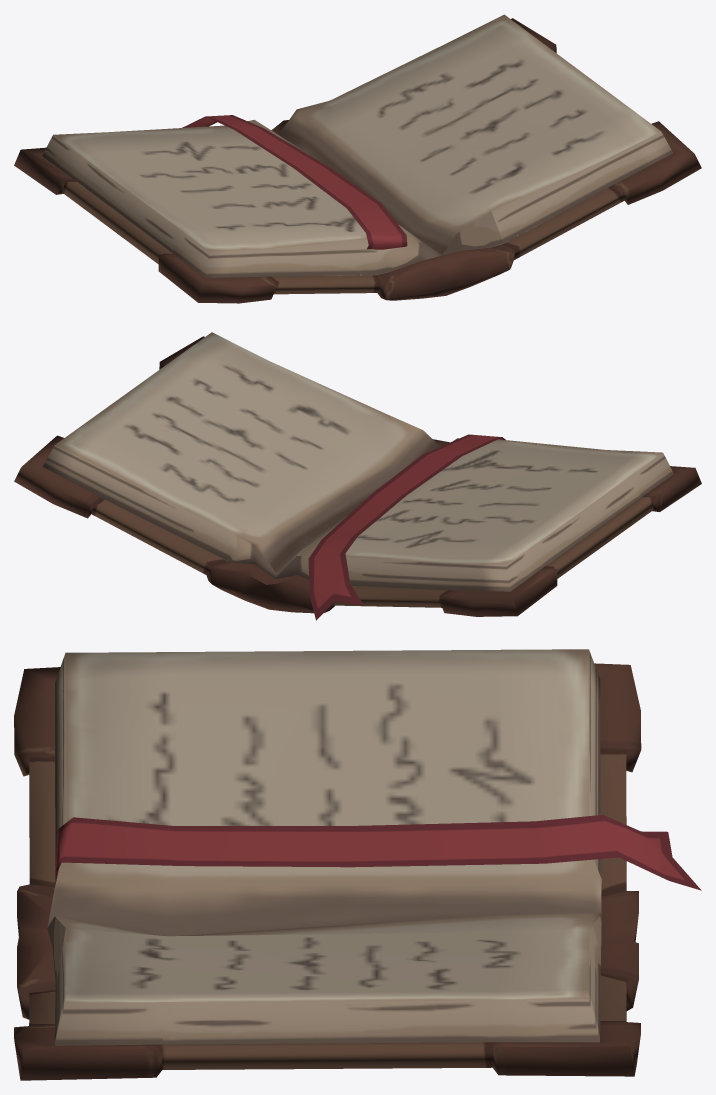
File: bookopened.fbx
3 views of the same model, one above another, from view 1: azimuth 30°, elevation 25°; view 2: azimuth 150°, elevation 25°; view 3: azimuth 270°, elevation 25° (orthographic). The views are drawn at different scales.
Visible parts, largest first — view 1: polySurface173; view 2: polySurface173; view 3: polySurface173.
Boxes of the visible parts, box(x1,y1,x2,y2) form: polySurface173: box(14, 14, 701, 303); polySurface173: box(14, 332, 701, 620); polySurface173: box(14, 649, 701, 1080).
Bounding box in the file's own units: 116 × 23 × 82.38.
